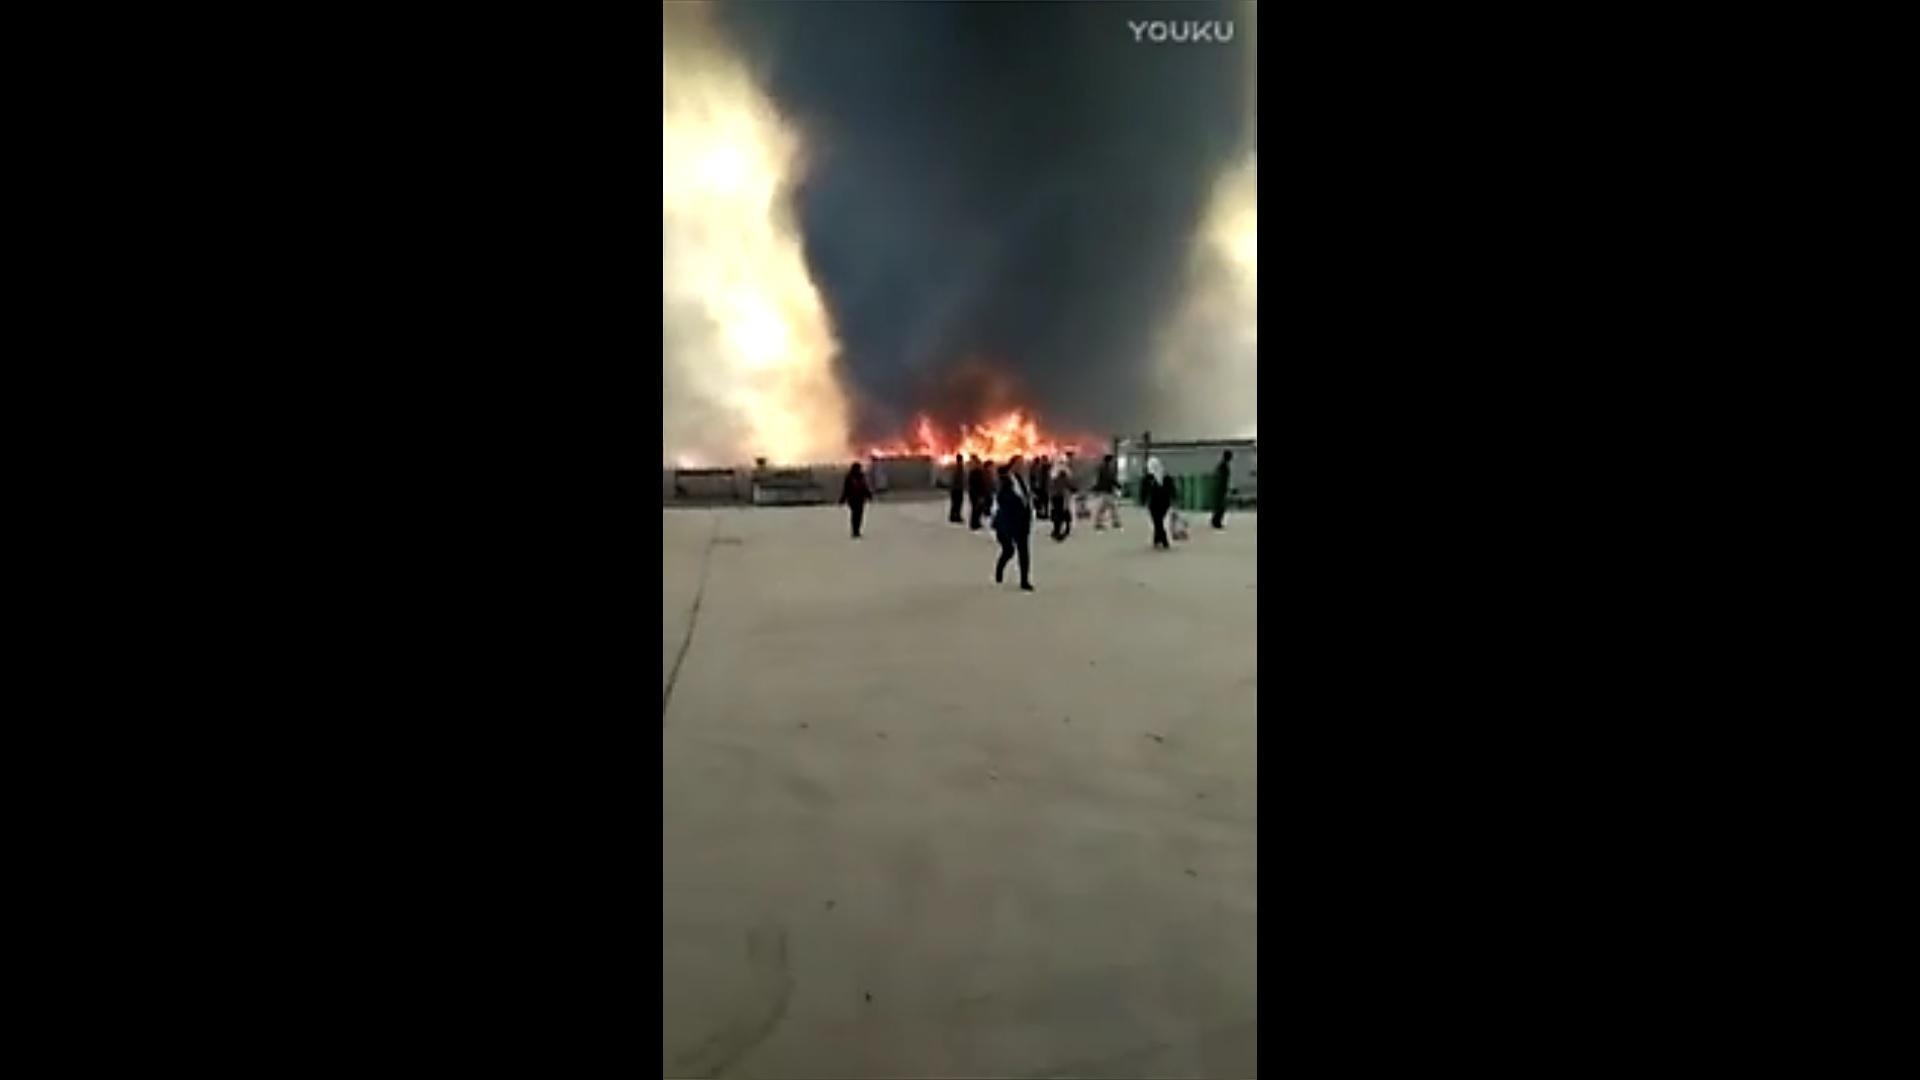fire: (874, 404, 1081, 469)
